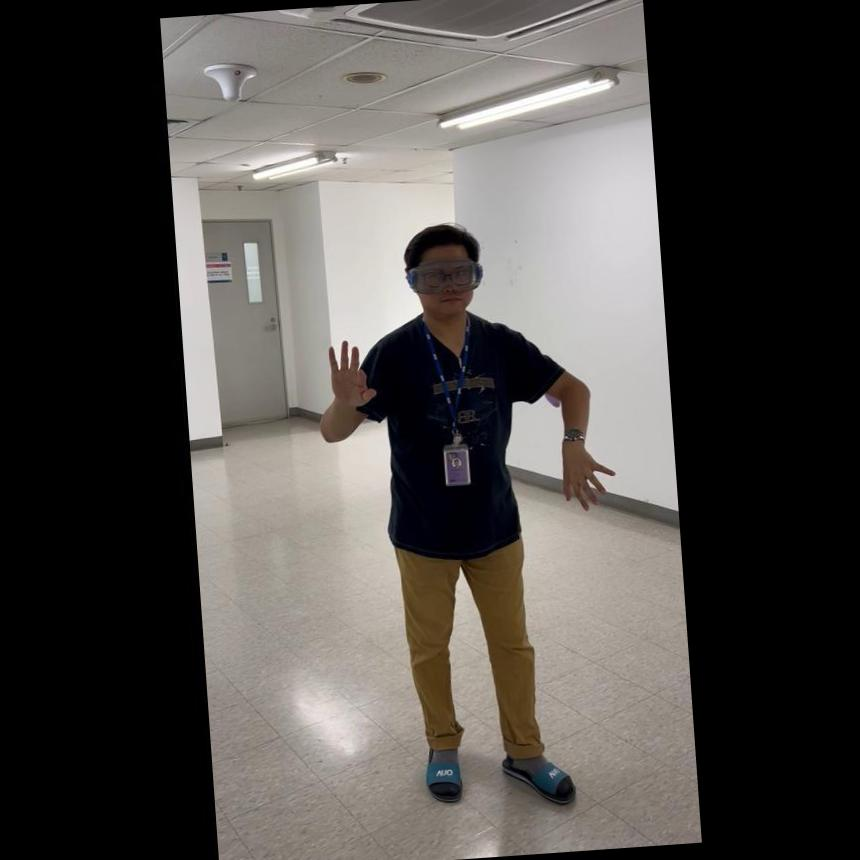No-gloves: (550, 428, 614, 512), (321, 334, 376, 406)
